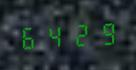four: (43, 21, 67, 49)
nine: (93, 18, 117, 47)
six: (18, 22, 42, 51)
two: (68, 19, 92, 48)
